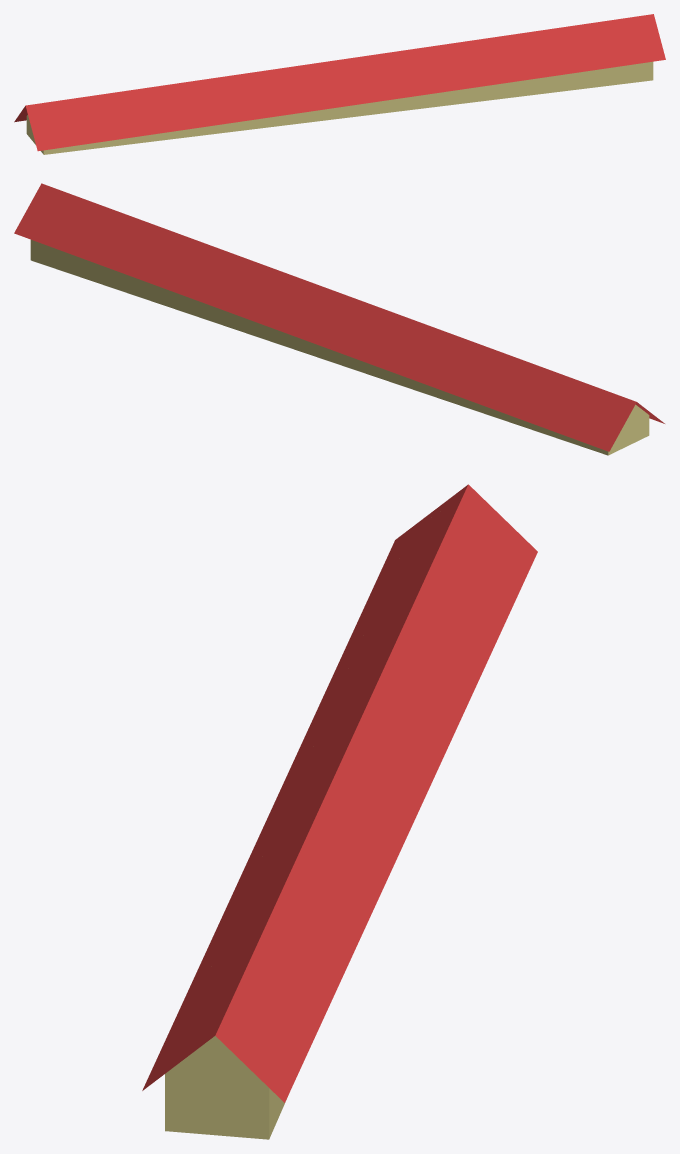
3 views of the same model, one above another, from view 1: azimuth 30°, elevation 25°; view 2: azimuth 150°, elevation 25°; view 3: azimuth 270°, elevation 25° (orthographic). The views are drawn at different scales.
Size of the model in its own units: 67.28 by 20 by 6.02.
